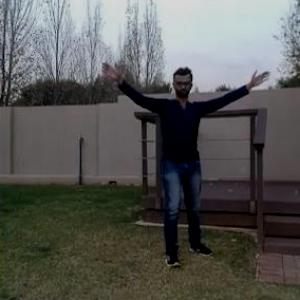takeoff: (104, 64, 263, 257)
